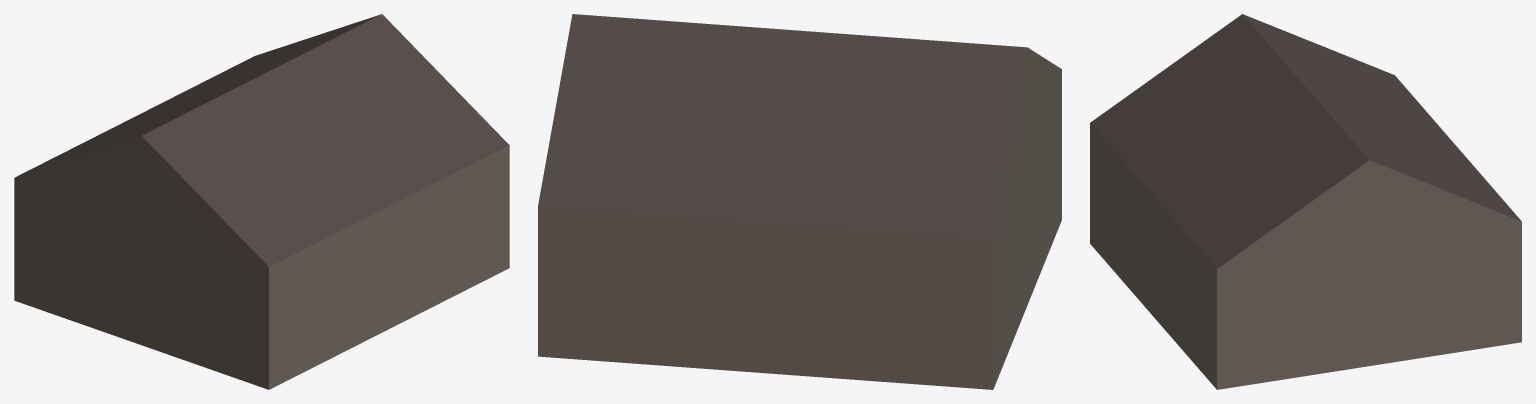
3 renders of one model, left to right at view 1: azimuth 30°, elevation 25°; view 2: azimuth 150°, elevation 25°; view 3: azimuth 270°, elevation 25°, orthographic. The views are drawn at different scales.
Visible parts, largest first — view 1: HP-w859424176; view 2: HP-w859424176; view 3: HP-w859424176.
Boxes of the visible parts, bbox=[...] form: HP-w859424176: bbox=[14, 14, 509, 389]; HP-w859424176: bbox=[538, 14, 1061, 389]; HP-w859424176: bbox=[1090, 14, 1521, 389].
Bounding box in the file's own units: 20.67 × 10.22 × 19.45.
